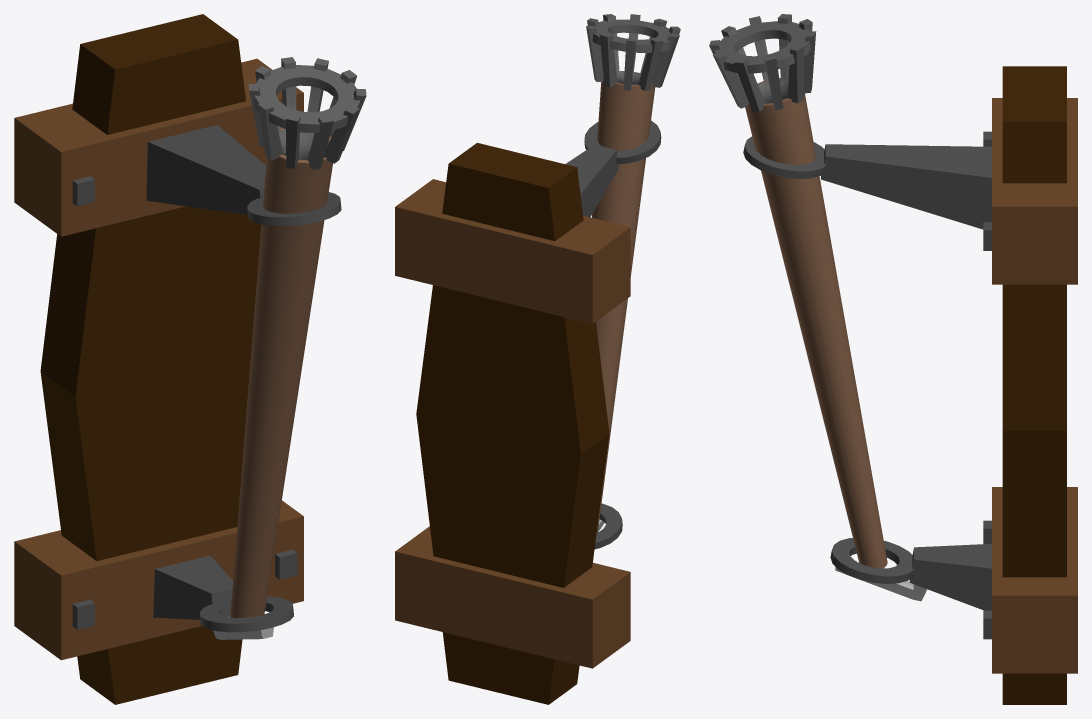
File: Sconce.fbx
3 renders of one model, left to right at view 1: azimuth 30°, elevation 25°; view 2: azimuth 150°, elevation 25°; view 3: azimuth 270°, elevation 25°, orthographic. The views are drawn at different scales.
Parts seen in each view (by area): view 1: pCube1, pCylinder5, pCube2, pCube3, pCube4, pCylinder6, pCube5, pCylinder7, pCylinder4, pCylinder3, pCube7, pCube9 (+1 smaller); view 2: pCube1, pCube3, pCube2, pCylinder5, pCylinder6, pCube4, pCylinder7, pCylinder3, pCylinder4; view 3: pCube1, pCylinder5, pCube3, pCube2, pCube4, pCylinder6, pCube5, pCylinder7, pCylinder4, pCylinder3, pCube6.
Part boxes in pixels (x1=…): pCube1: x1=40, y1=14, x2=261, y2=704; pCylinder5: x1=230, y1=127, x2=332, y2=617; pCube2: x1=14, y1=500, x2=303, y2=660; pCube3: x1=14, y1=58, x2=303, y2=236; pCube4: x1=146, y1=125, x2=265, y2=214; pCylinder6: x1=248, y1=57, x2=366, y2=169; pCube5: x1=153, y1=555, x2=232, y2=619; pCylinder7: x1=254, y1=65, x2=359, y2=133; pCylinder4: x1=199, y1=596, x2=293, y2=632; pCylinder3: x1=247, y1=192, x2=341, y2=225; pCube7: x1=72, y1=176, x2=94, y2=206; pCube9: x1=275, y1=549, x2=297, y2=579; pCube1: x1=416, y1=143, x2=609, y2=704; pCube3: x1=395, y1=179, x2=630, y2=323; pCube2: x1=395, y1=526, x2=630, y2=668; pCylinder5: x1=592, y1=79, x2=655, y2=532; pCylinder6: x1=586, y1=14, x2=680, y2=90; pCube4: x1=565, y1=144, x2=618, y2=217; pCylinder7: x1=591, y1=19, x2=675, y2=52; pCylinder3: x1=584, y1=120, x2=661, y2=163; pCylinder4: x1=594, y1=503, x2=622, y2=549; pCube1: x1=1002, y1=66, x2=1066, y2=704; pCylinder5: x1=745, y1=78, x2=887, y2=568; pCube3: x1=992, y1=98, x2=1077, y2=284; pCube2: x1=992, y1=487, x2=1077, y2=673; pCube4: x1=821, y1=144, x2=991, y2=229; pCylinder6: x1=709, y1=14, x2=816, y2=111; pCube5: x1=909, y1=544, x2=991, y2=610; pCylinder7: x1=715, y1=21, x2=811, y2=73; pCylinder4: x1=830, y1=538, x2=914, y2=583; pCylinder3: x1=743, y1=136, x2=827, y2=178; pCube6: x1=835, y1=567, x2=926, y2=601.
Bounding box in the file's own units: 0.6 × 1.66 × 0.8593.
